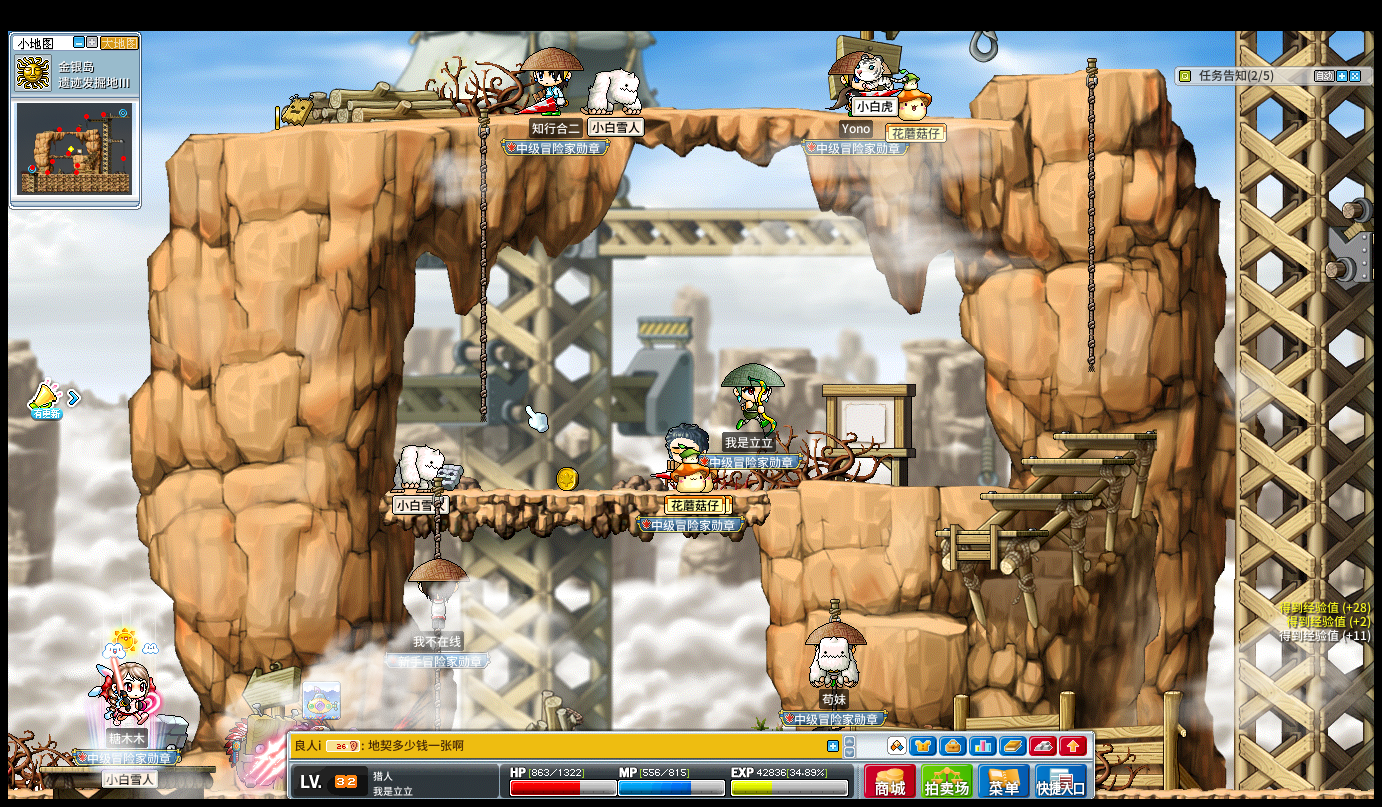floor: (179, 104, 1034, 137), (382, 488, 763, 499), (862, 613, 967, 634), (990, 65, 1161, 77), (866, 483, 1017, 492), (1054, 429, 1158, 441), (1015, 456, 1130, 465), (935, 528, 1049, 536), (979, 492, 1093, 500)
monster: (225, 711, 289, 788), (146, 712, 192, 778)
rope: (477, 106, 492, 418), (1083, 54, 1097, 372), (475, 107, 489, 417), (1083, 265, 1095, 370), (429, 490, 441, 557)
